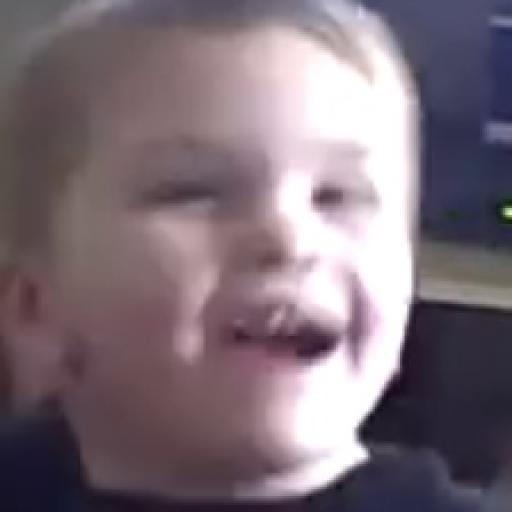Autism: (18, 25, 468, 512)
